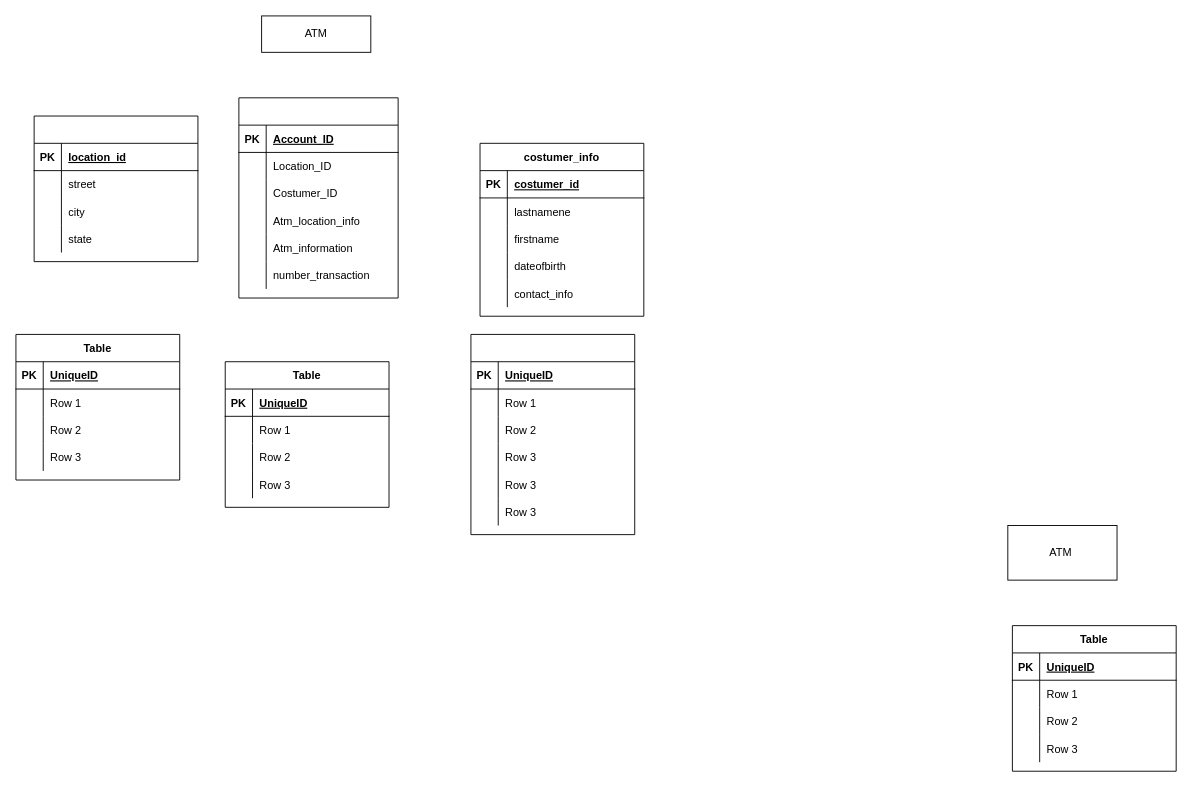
This 1192x787 diagram has some shape labels left out. The box of each missing label's shape, as (x1, y1, x2, y2) in pixels:
Atm_contact_info: (33, 115, 198, 262)
costumer: (470, 334, 635, 535)
Fact_deposition: (238, 97, 398, 298)
